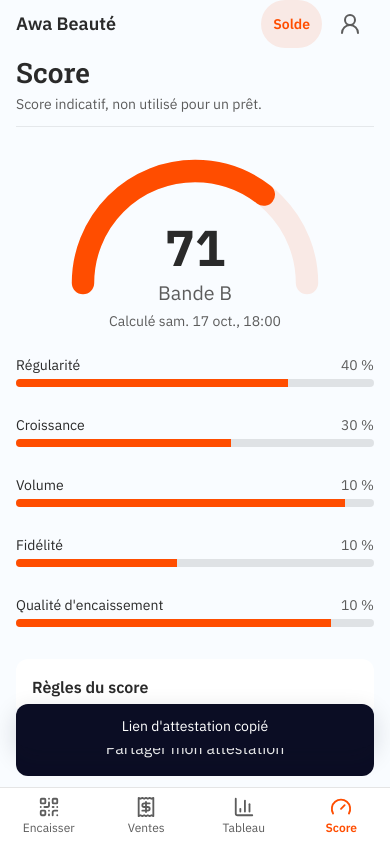
écran Score : attestation › montre le refus du serveur au lieu de l'ignorer
Step 1. Click the button "Partager mon attestation" → click(195, 748), box [16,720,374,776]
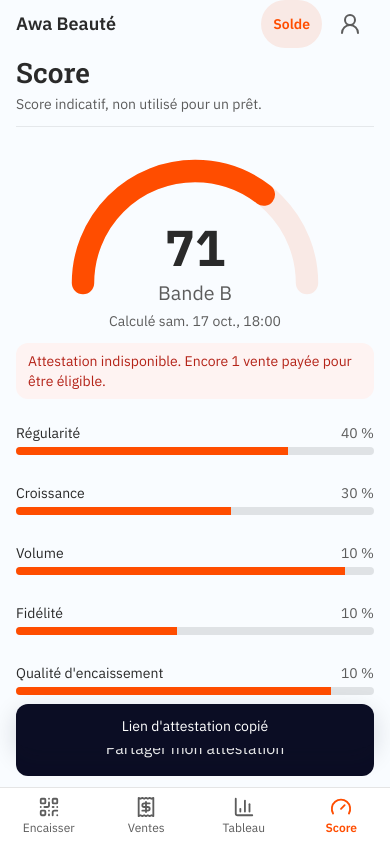
Expected: the message "Attestation indisponible. Encore 1 vente payée pour être éligible." is shown, [16,343,374,399]
